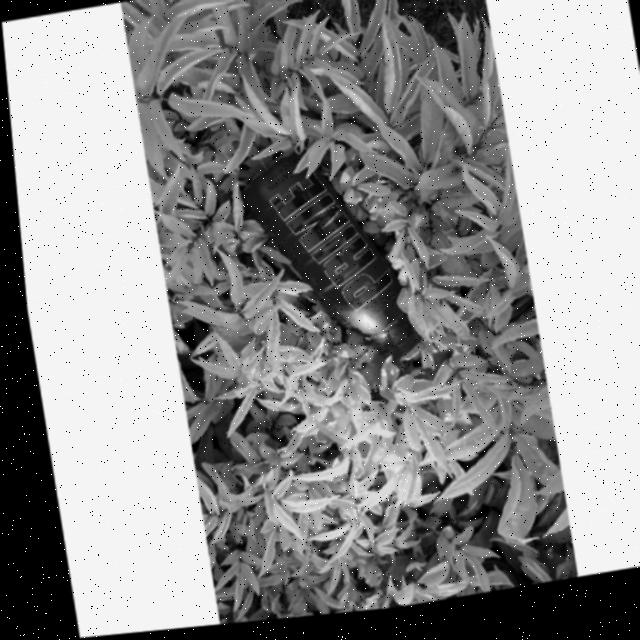Prime - Shitass: (235, 141, 418, 385)
